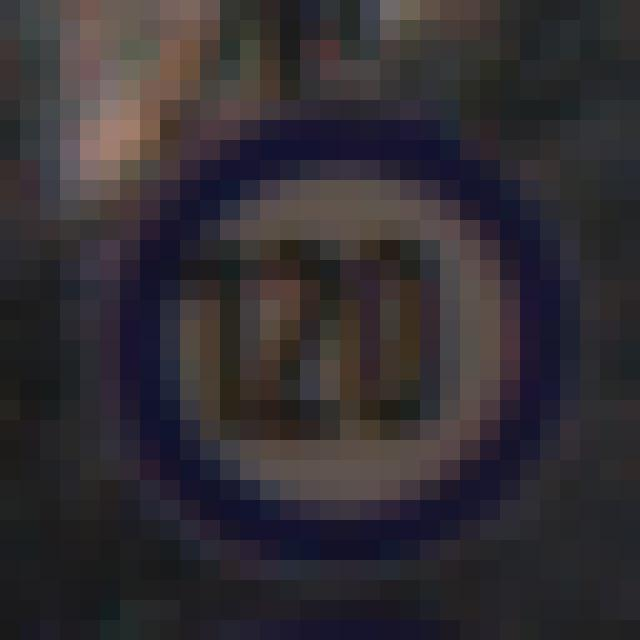SPEED LIMIT 120: (99, 104, 581, 554)
